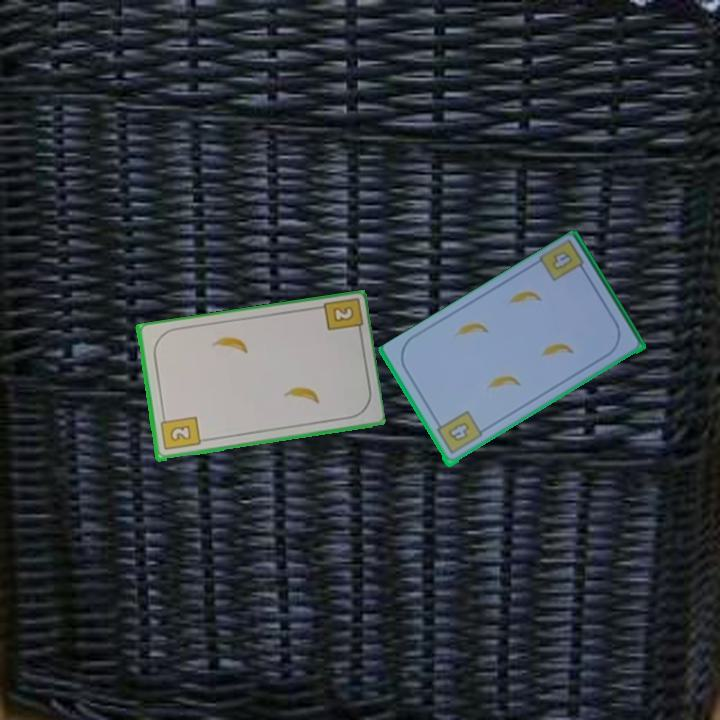2b: (157, 411, 202, 453), (329, 302, 357, 325)
4b: (432, 407, 485, 458), (536, 237, 590, 285)
